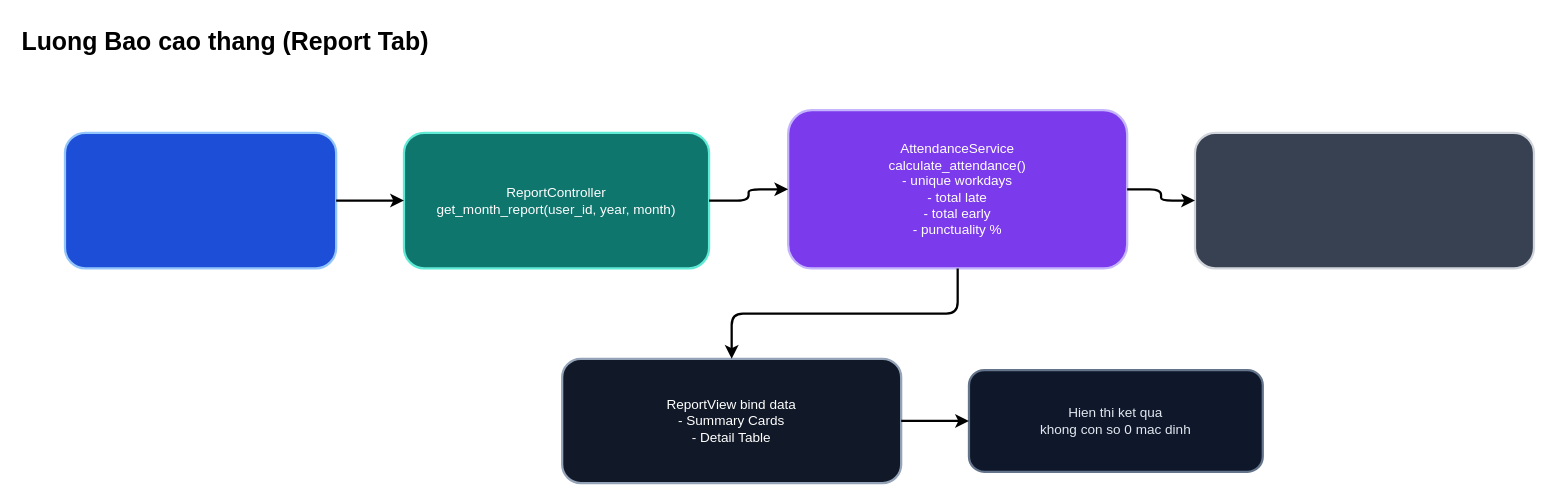
The diagram is 1554 pixels wide and 503 high, and some of its shapes have lost their labels. Here are the shapes that lost their labels. From the top down, the box of each, then its label:
(63, 131, 337, 269): User chon - Nhan vien - Thang/Nam roi bam Xem bao cao
(1193, 131, 1535, 269): SQLite Query JOIN + GROUP BY + DISTINCT date WHERE user_id + month range
